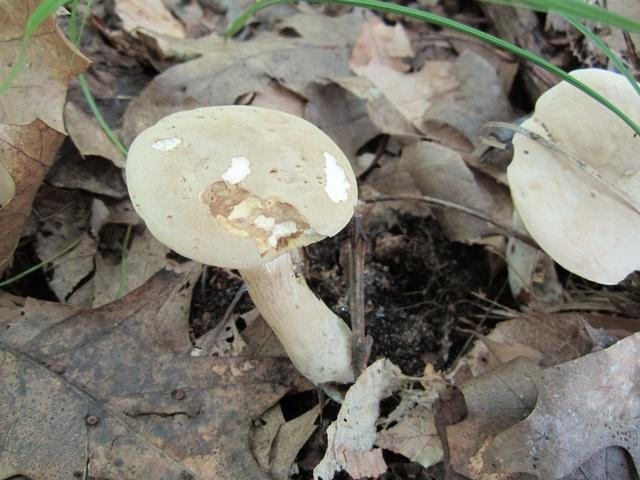edible_mushroom: (123, 102, 367, 401), (494, 63, 640, 289)
